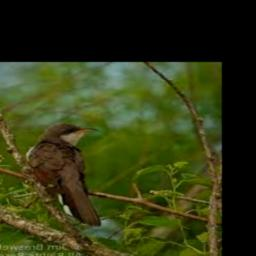Cuckoo: (25, 123, 102, 226)
